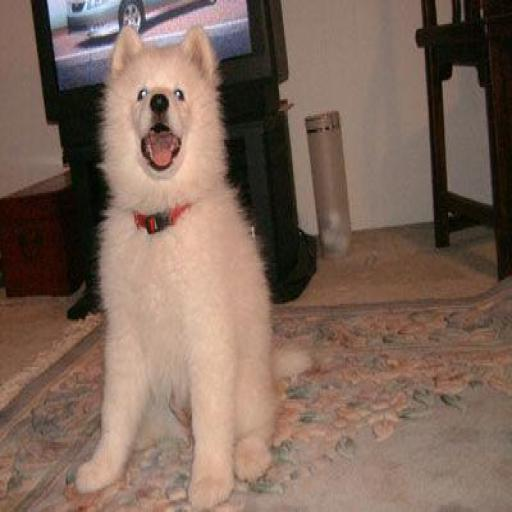dog_face: (97, 26, 220, 203)
